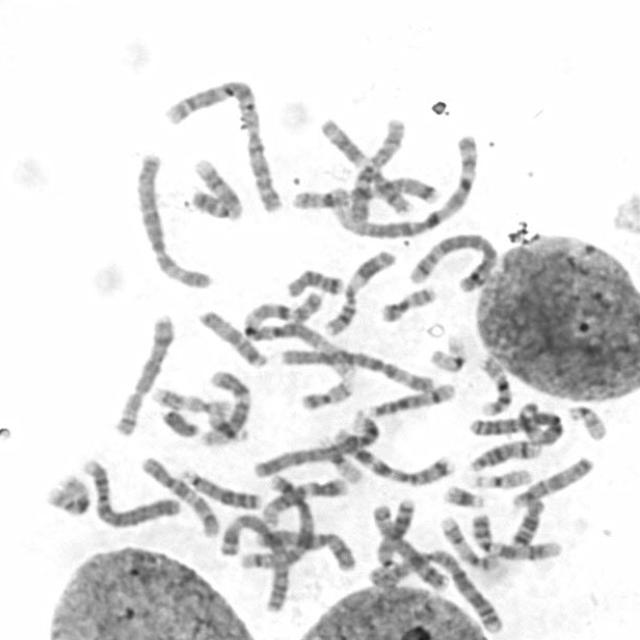A1: (328, 128, 482, 238), (240, 293, 357, 382)
A2: (160, 74, 289, 215), (367, 544, 506, 634)
A3: (215, 508, 292, 614), (466, 402, 566, 448)
B4: (250, 410, 384, 480), (79, 454, 182, 529)
B5: (237, 470, 317, 570), (405, 228, 501, 292)
C10: (136, 452, 221, 539), (345, 115, 407, 225)
C11: (315, 113, 413, 214), (319, 244, 398, 337)
C12: (258, 472, 349, 526), (200, 365, 253, 447)
C6: (129, 148, 213, 291), (276, 342, 439, 394)
C7: (326, 424, 457, 487), (341, 170, 442, 217)
C8: (108, 308, 177, 438), (369, 499, 451, 592)
C9: (467, 509, 565, 562), (188, 153, 245, 221)
D13: (176, 464, 266, 511), (374, 493, 418, 573)
D14: (364, 378, 458, 418), (464, 435, 544, 473)
D15: (507, 452, 596, 509), (195, 305, 271, 369)
E16: (476, 350, 515, 417), (40, 470, 92, 518)
E17: (435, 510, 502, 572), (145, 382, 233, 416)
E18: (506, 494, 546, 550), (282, 264, 346, 298)
F19: (320, 435, 366, 484), (425, 331, 470, 374)
F20: (376, 280, 440, 324), (296, 373, 356, 411)
G21: (438, 480, 488, 509), (206, 408, 249, 441)
G22: (563, 400, 610, 442), (470, 464, 534, 490)
X: (369, 499, 451, 592), (243, 524, 358, 573)
Y: (157, 403, 202, 439)
